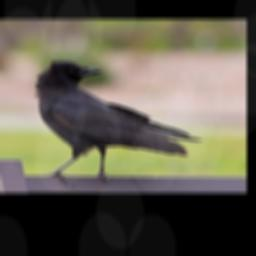Crow: (33, 60, 204, 185)
